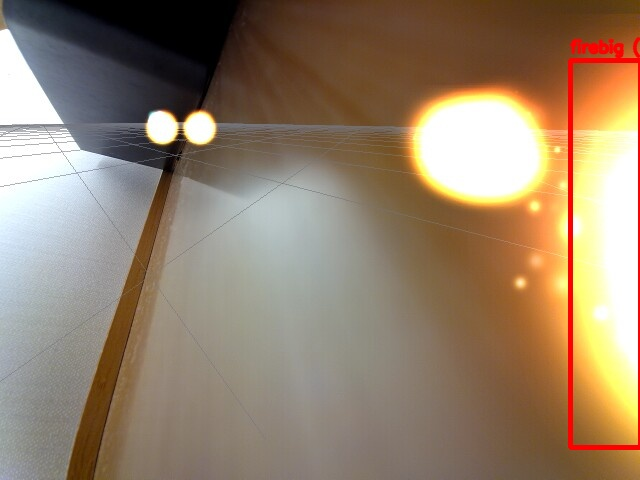firebig: (570, 60, 640, 447)
